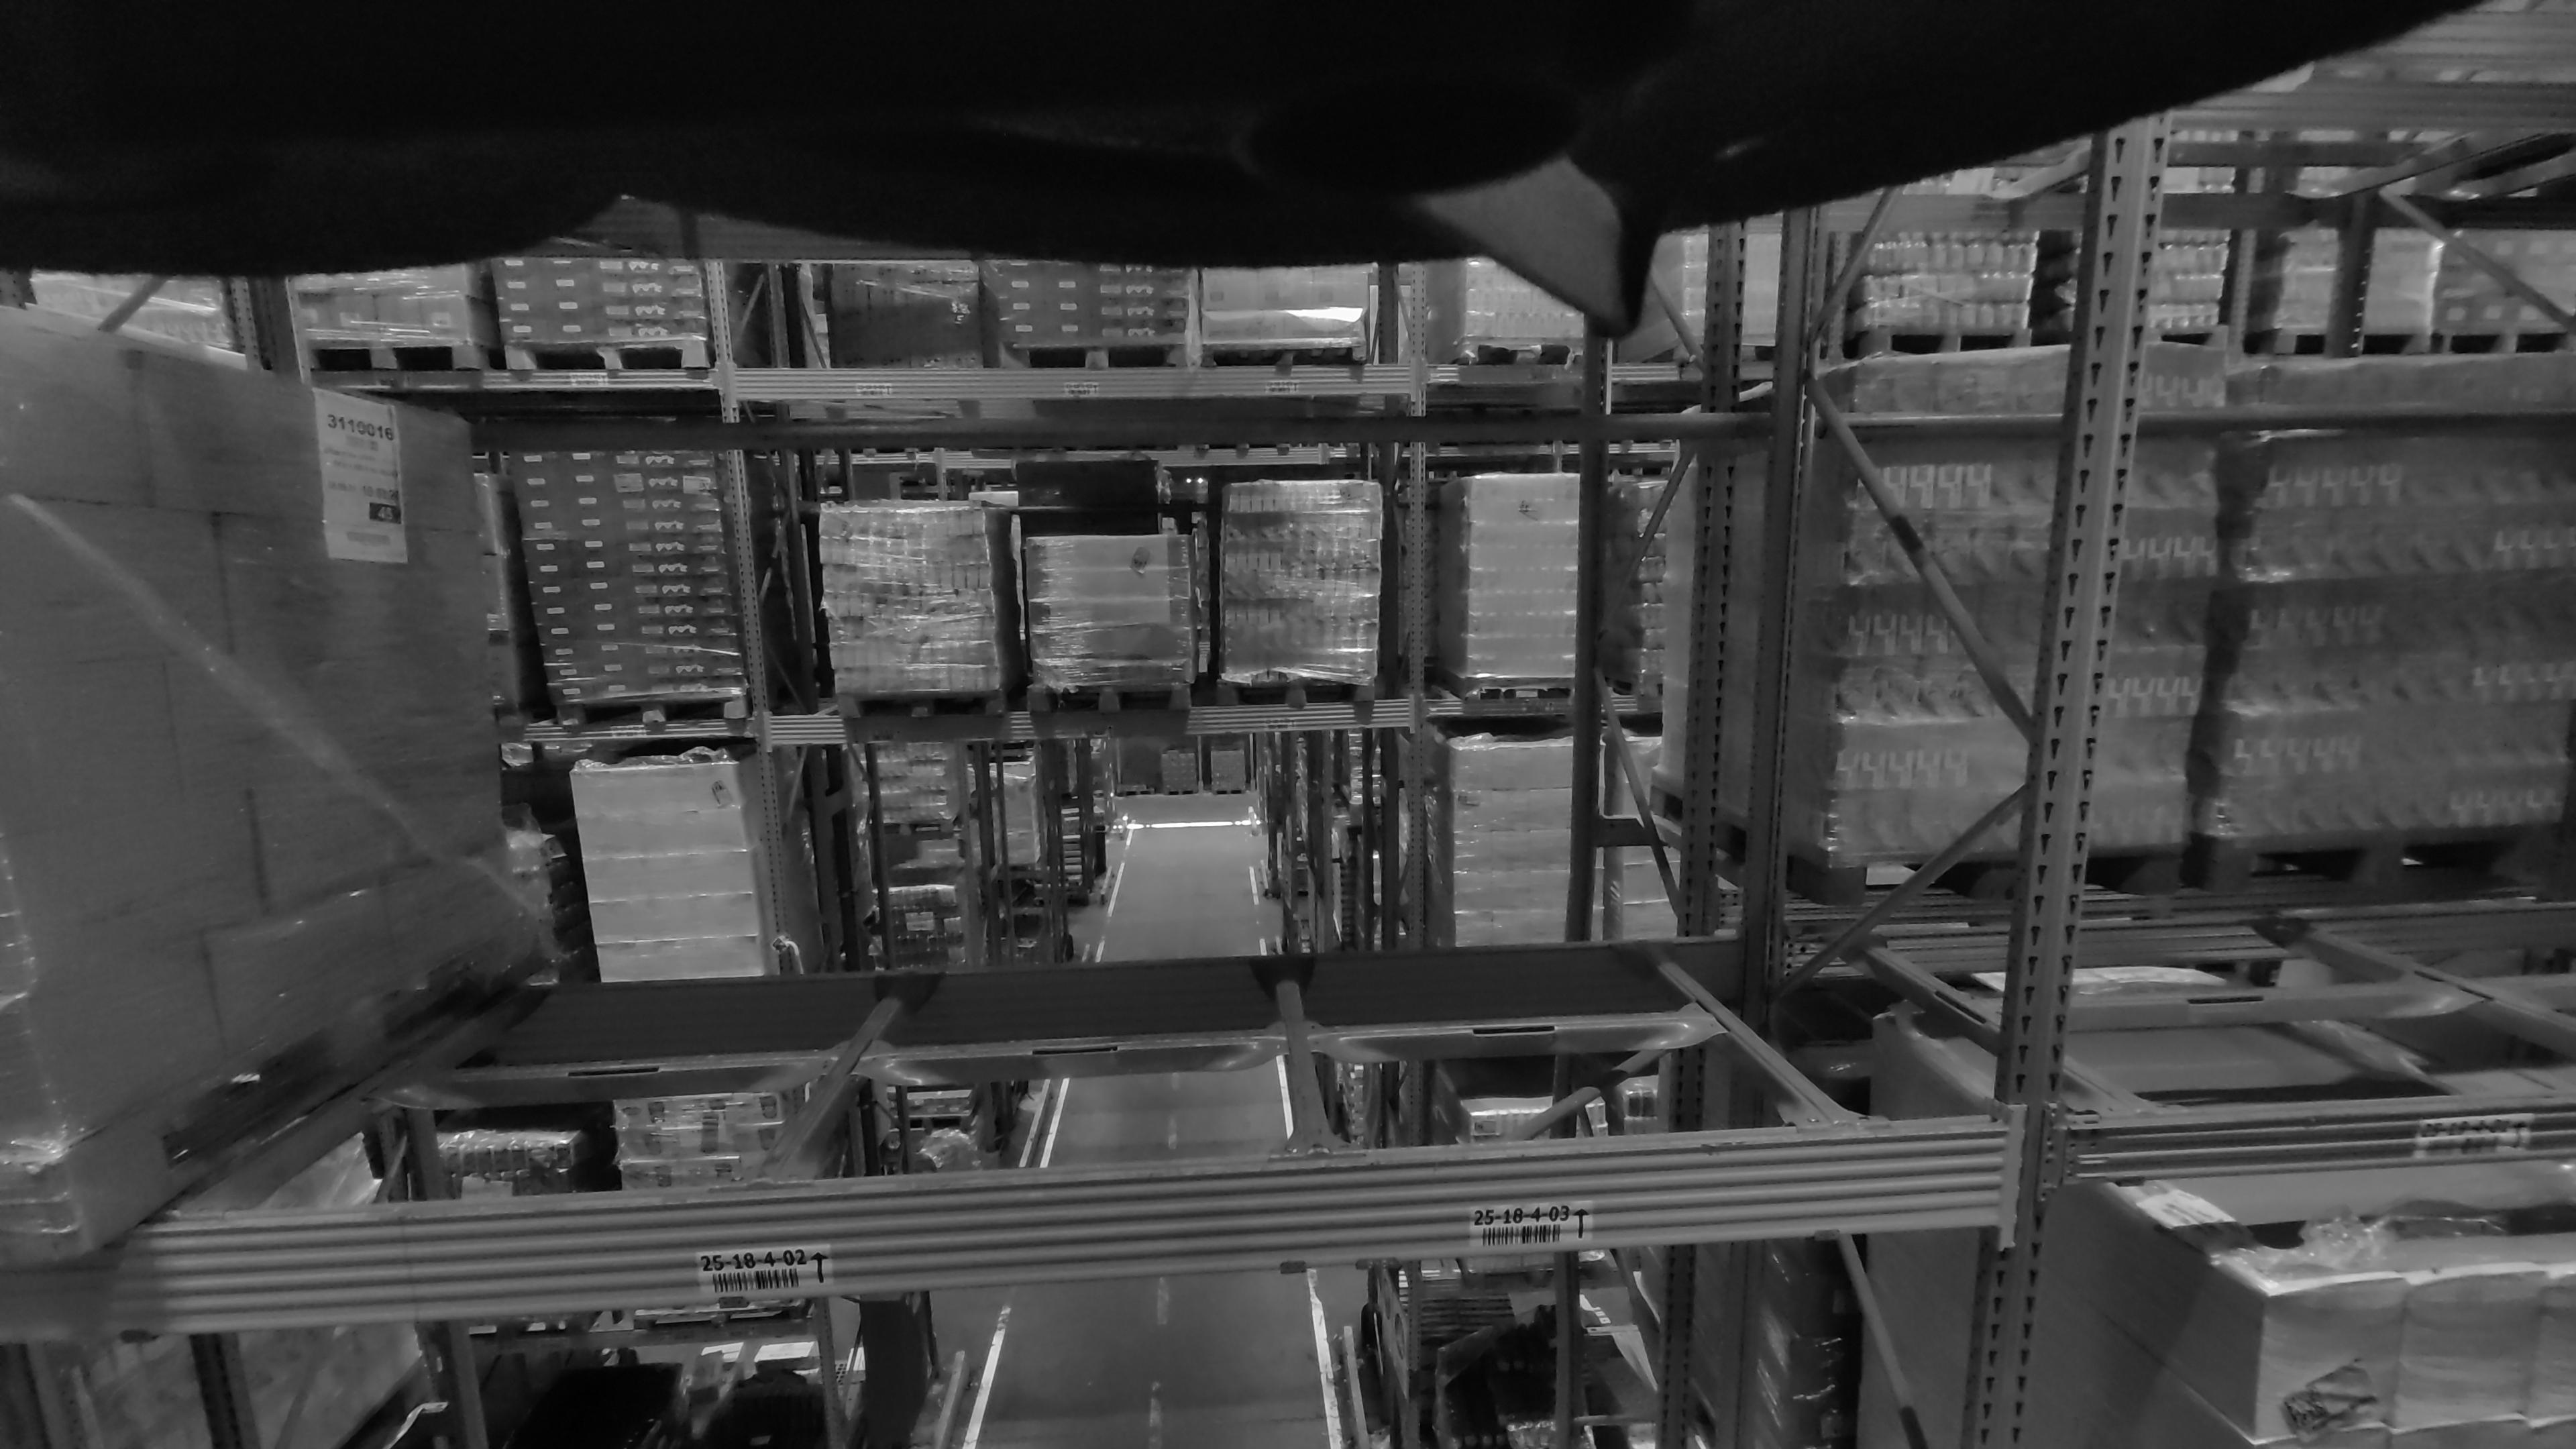empty-shelf: (400, 232, 1065, 1180), (1168, 255, 1865, 1125), (2104, 0, 2576, 1070)
